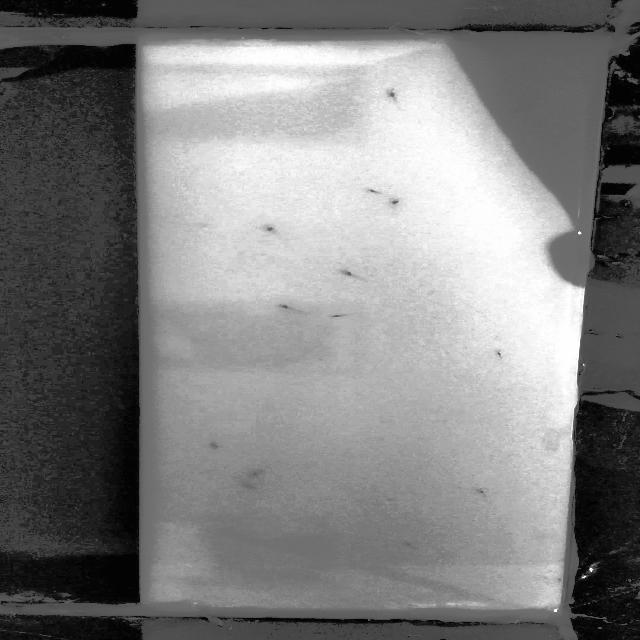shrimp: (332, 261, 371, 282), (461, 483, 502, 499), (316, 308, 359, 323), (255, 220, 286, 240), (480, 342, 508, 364), (377, 82, 403, 104), (269, 298, 301, 314), (192, 440, 229, 453), (382, 194, 413, 209), (357, 183, 390, 196), (245, 465, 268, 483), (395, 538, 417, 552), (237, 483, 265, 493)
